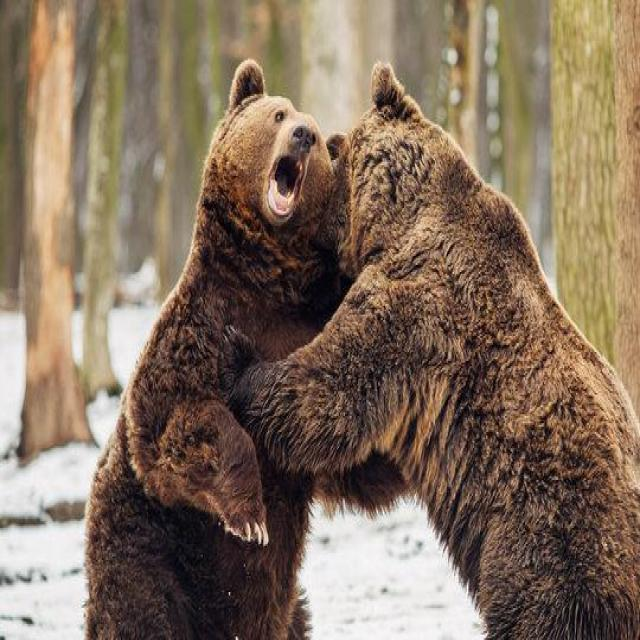Bear: (244, 64, 640, 640), (85, 64, 341, 640)
